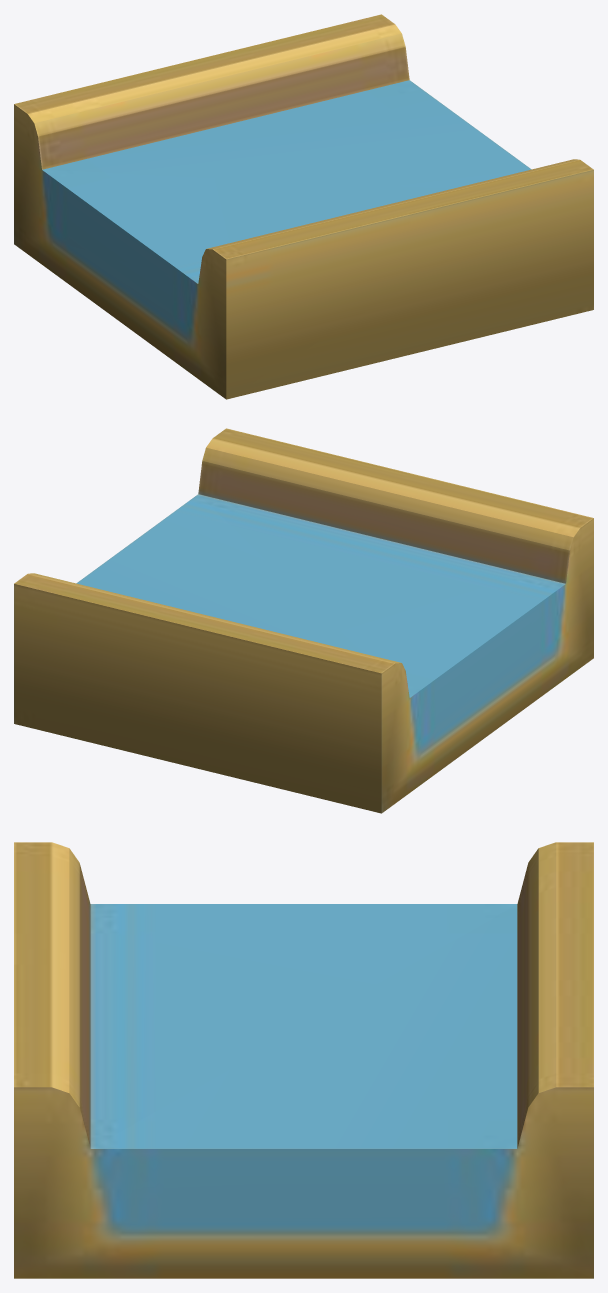
File: creek_straight.glb
The picture shows the model from 3 angles, top to bottom: view 1: azimuth 30°, elevation 25°; view 2: azimuth 150°, elevation 25°; view 3: azimuth 270°, elevation 25°; orthographic projection. The views are drawn at different scales.
Parts seen in each view (by area): view 1: creek_straight; view 2: creek_straight; view 3: creek_straight.
Boxes of the visible parts, bbox=[...] form: creek_straight: bbox=[14, 14, 593, 399]; creek_straight: bbox=[14, 428, 593, 813]; creek_straight: bbox=[14, 842, 593, 1278].
Bounding box in the file's own units: 2 × 0.7285 × 2.
Materials: 1 (1 with a texture image).
